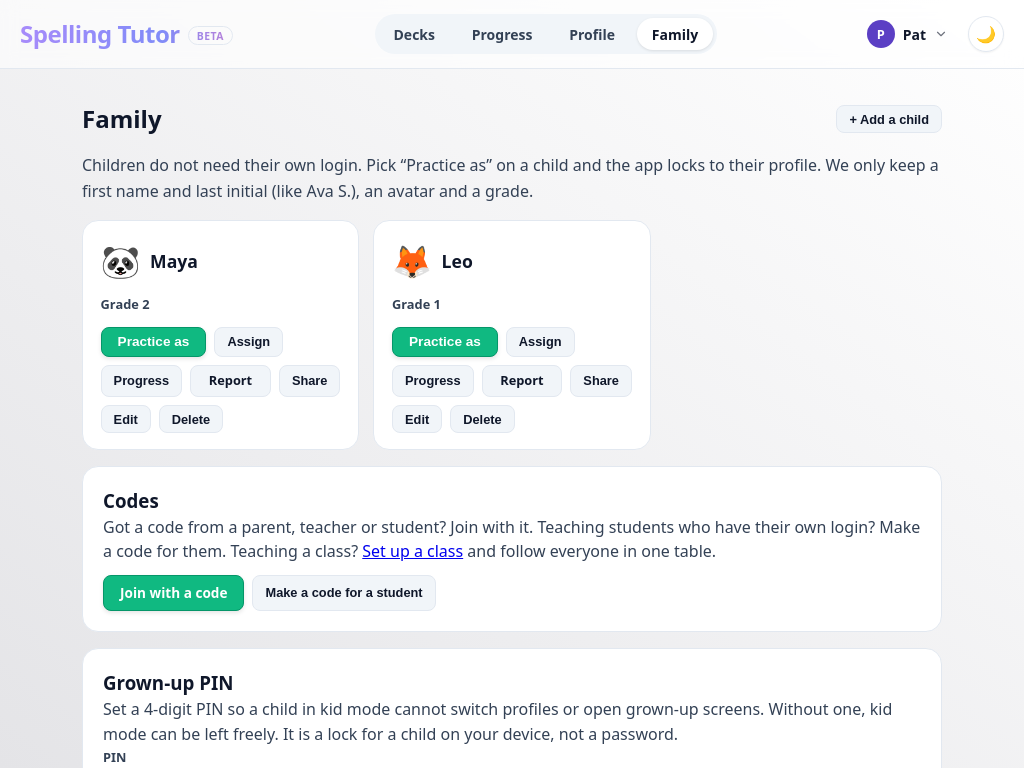
Family page › asks before deleting and explains the 30 days
Later steps or results of the test are not shown.
Click the button with aria-label "Delete Leo". click: (482, 419)
box: [450,405,515,433]
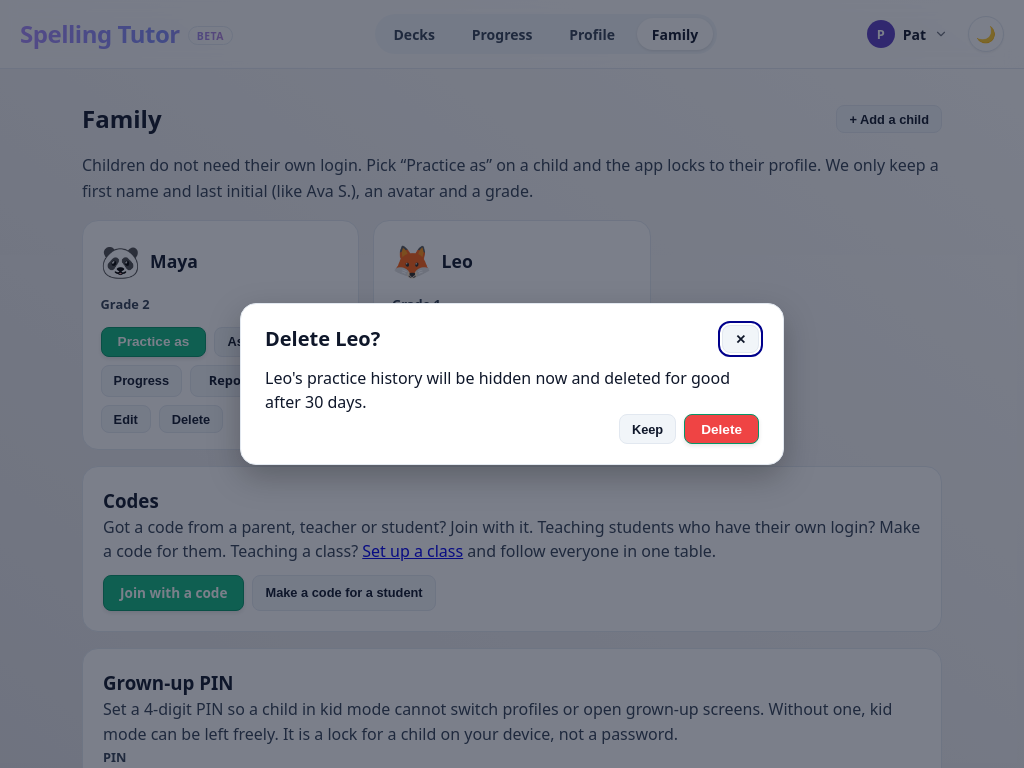
Now the text "deleted for good after 30 days" is shown, box [265,367,730,413]
